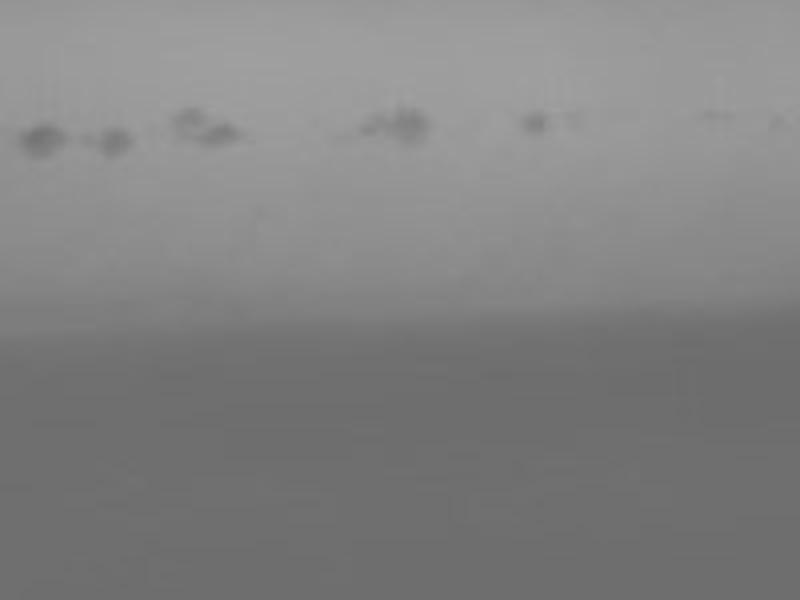defect: (365, 101, 431, 149), (20, 125, 67, 164), (95, 125, 136, 165), (201, 120, 237, 154), (171, 106, 208, 138), (520, 109, 550, 135)
